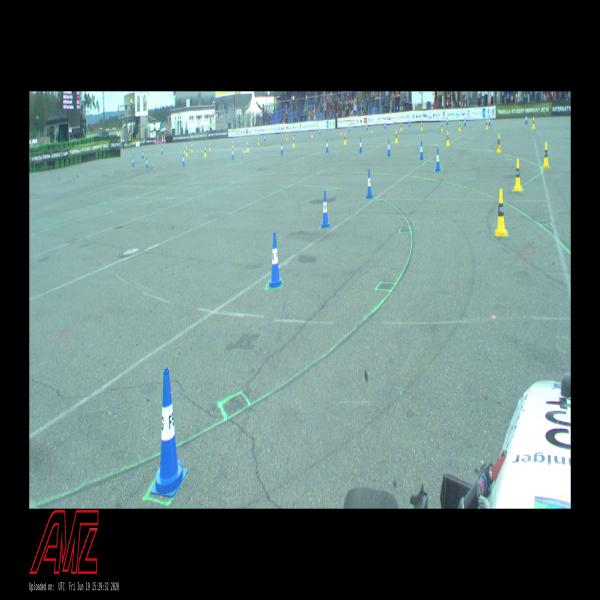blue_cone: (150, 368, 188, 497), (269, 232, 282, 288), (320, 191, 330, 228), (365, 170, 373, 198), (434, 148, 440, 172), (419, 141, 424, 160), (387, 139, 391, 156), (280, 142, 284, 155), (359, 138, 362, 153), (326, 138, 329, 153), (182, 154, 185, 166), (525, 114, 528, 124), (488, 116, 491, 126), (132, 157, 135, 166), (232, 147, 234, 160), (146, 157, 148, 168), (464, 117, 466, 126), (161, 146, 163, 155), (142, 150, 144, 158), (446, 117, 448, 124), (384, 122, 386, 129), (366, 123, 368, 130), (237, 139, 239, 145), (349, 123, 350, 132), (264, 135, 265, 142), (409, 120, 410, 127), (320, 127, 320, 134)
large_orange_cone: (164, 134, 166, 144), (157, 134, 159, 144), (162, 134, 163, 144)
yellow_cone: (495, 189, 508, 236), (513, 159, 523, 191), (542, 142, 550, 168), (496, 133, 502, 152), (446, 131, 450, 146), (395, 130, 398, 143), (532, 116, 535, 129), (204, 147, 207, 157), (458, 121, 461, 131), (440, 122, 443, 131), (486, 118, 488, 130), (420, 122, 423, 130), (344, 133, 346, 144), (292, 137, 294, 147), (191, 144, 193, 153), (209, 142, 211, 150), (400, 123, 402, 131), (247, 142, 249, 150), (186, 148, 188, 156), (371, 126, 373, 133), (184, 146, 186, 153), (311, 131, 313, 138), (340, 128, 342, 135), (258, 138, 260, 144), (286, 134, 287, 141), (232, 141, 233, 148)
